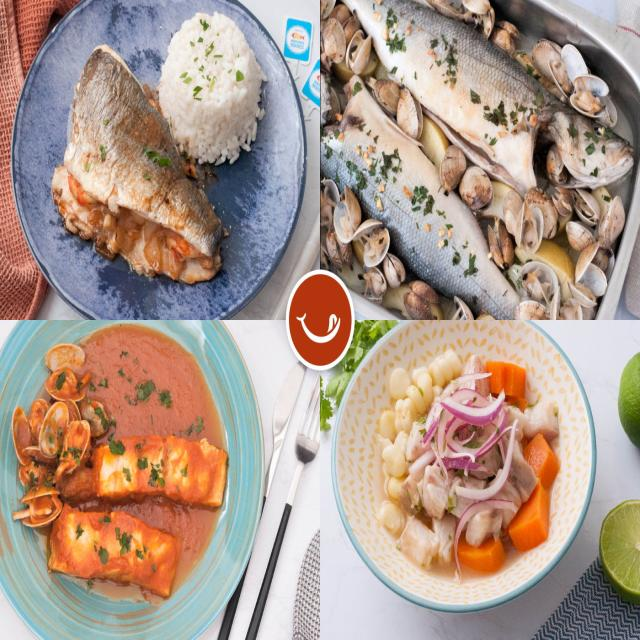arroz: (156, 8, 274, 173)
pescado: (337, 0, 633, 199)
